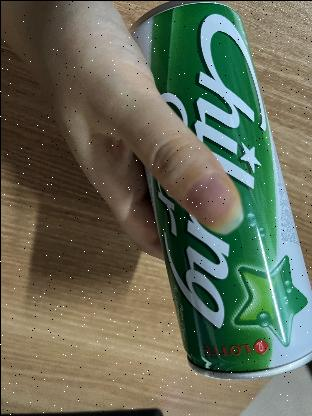Can: (130, 0, 312, 378)
